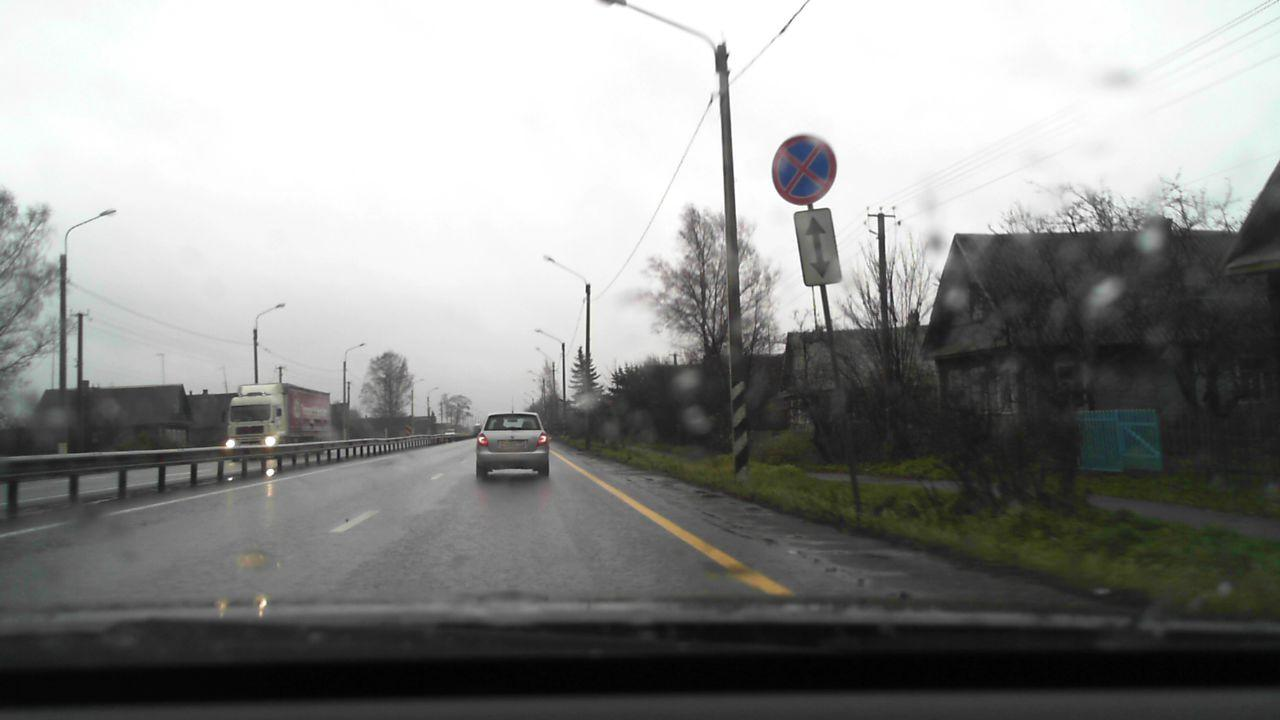3_27: (768, 133, 840, 203)
8_2_4: (793, 208, 841, 286)
